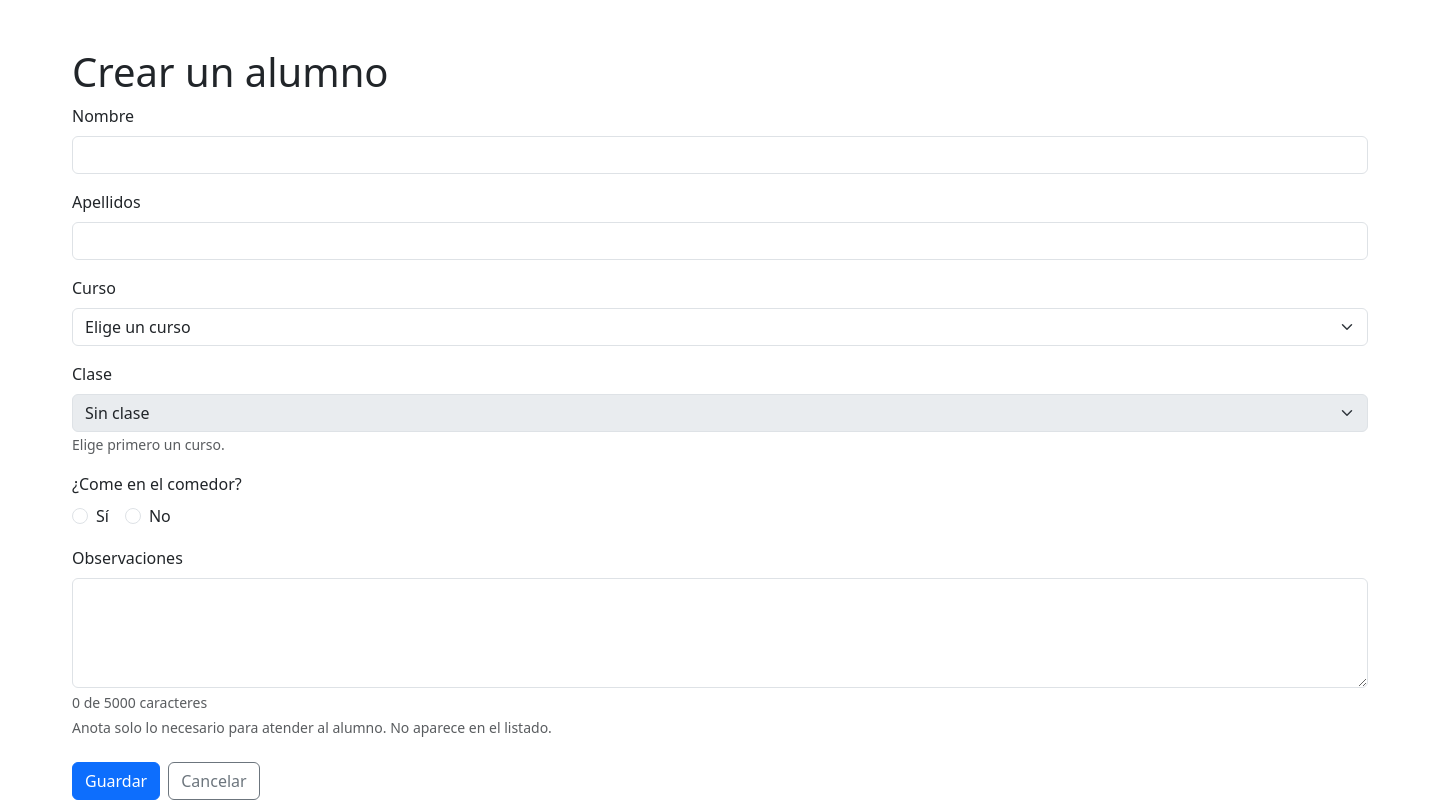
CreateStudentPage › shows the fields that the server rejects
Type "Juan" into the field labelled "Nombre" at coordinates (720, 155), box [72,136,1368,174]
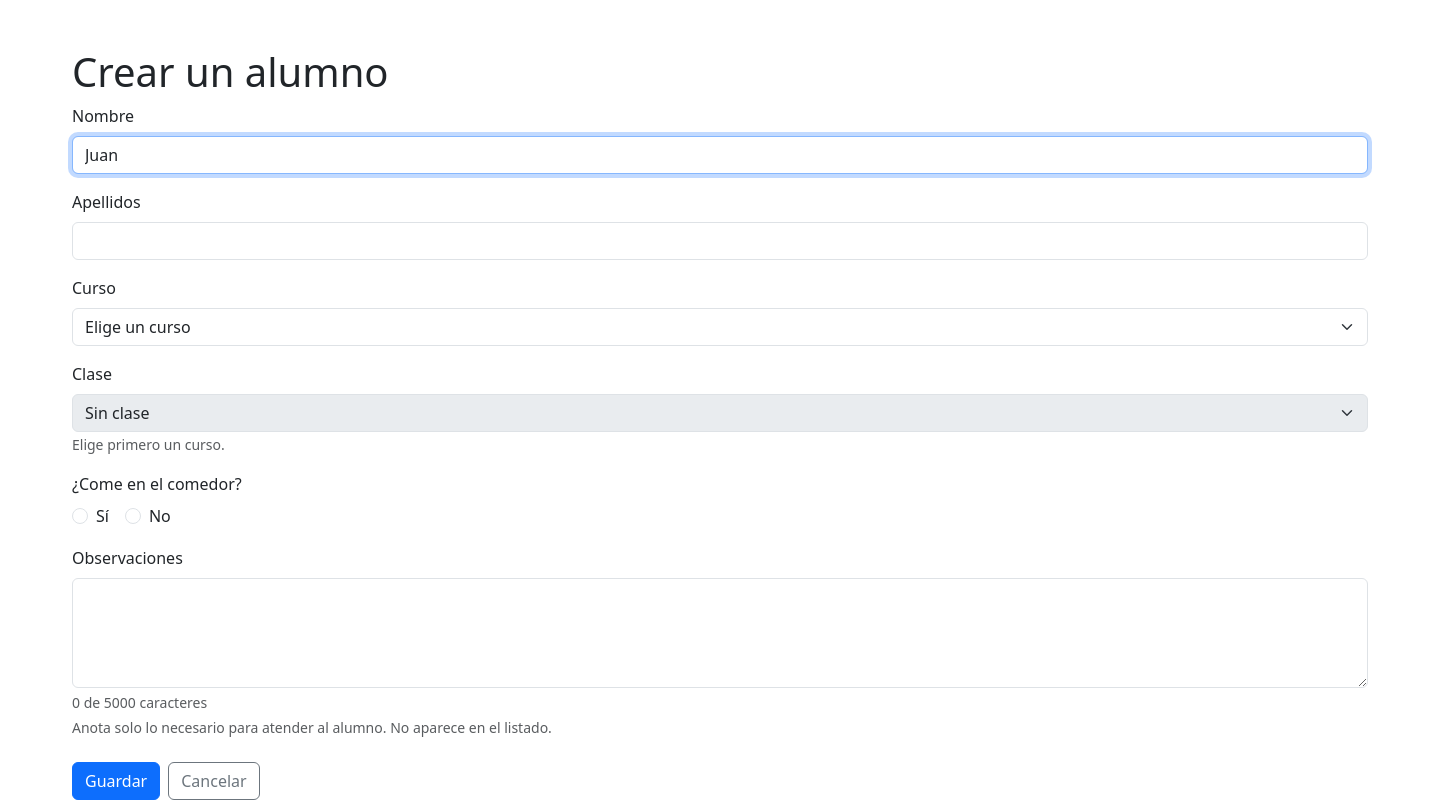
Type "García" into the field labelled "Apellidos" at coordinates (720, 241), box [72,222,1368,260]
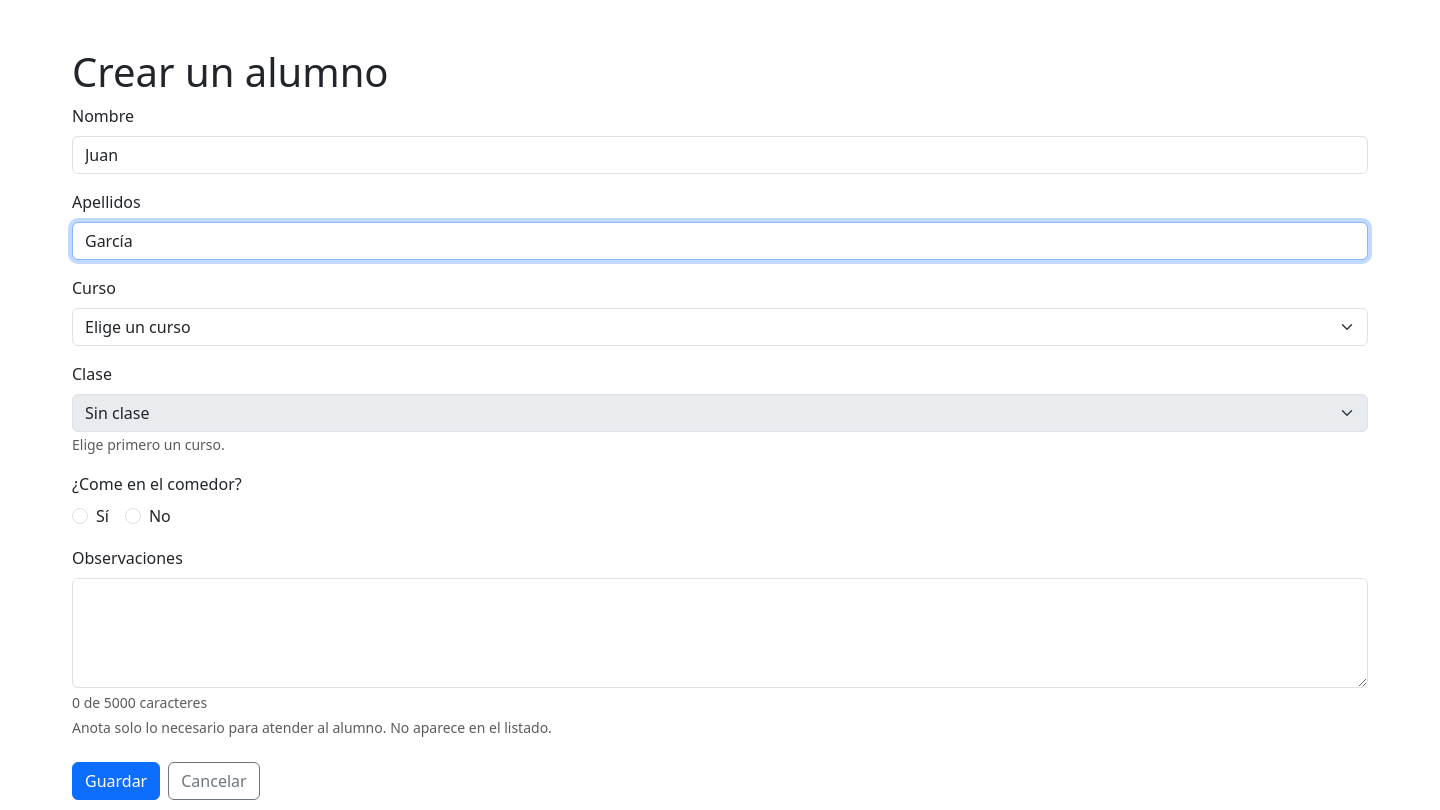
Select "1º Primaria" in the dropdown labelled "Curso" at coordinates (720, 327), box [72,308,1368,346]
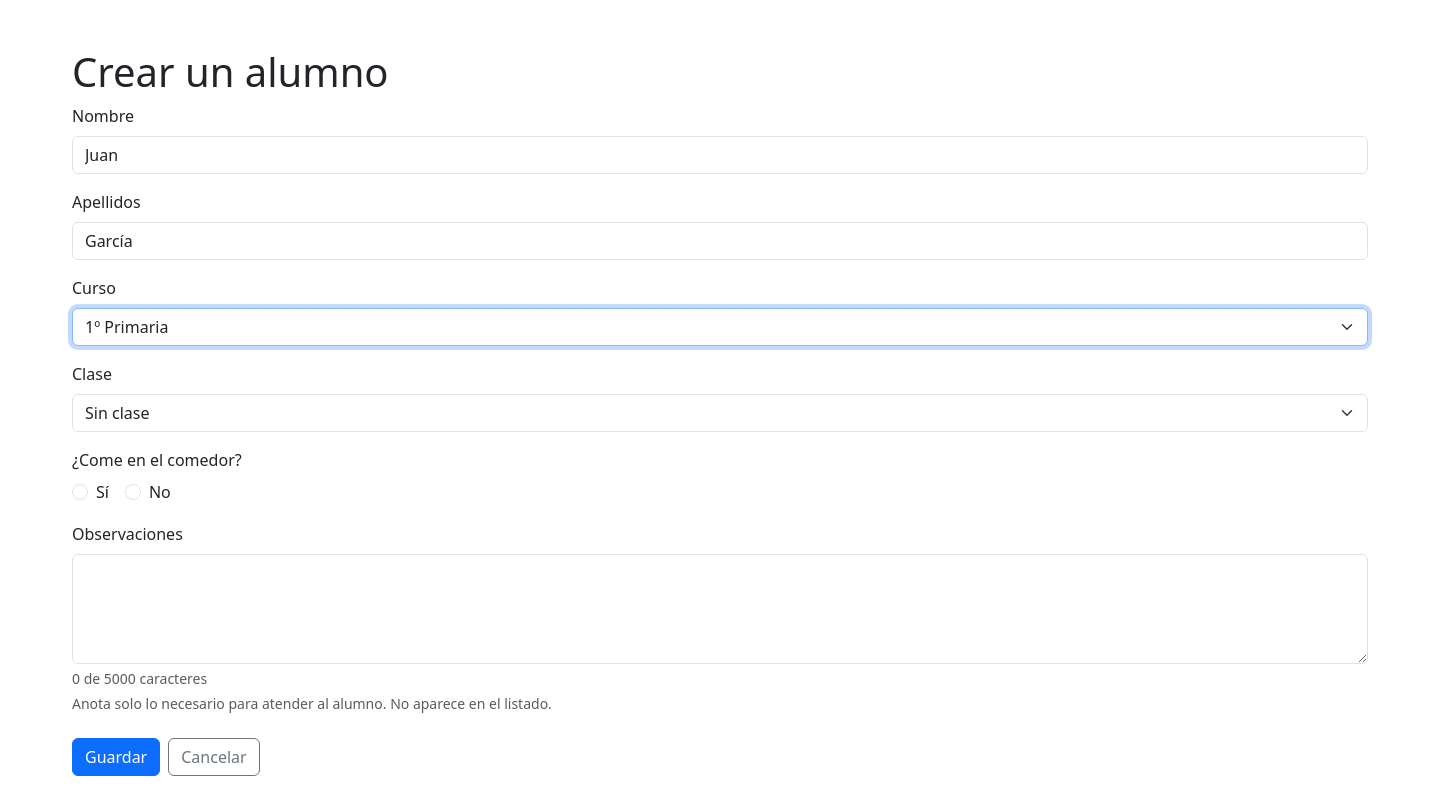
Click the radio button labelled "No" at coordinates (133, 492), box [125,484,141,500]
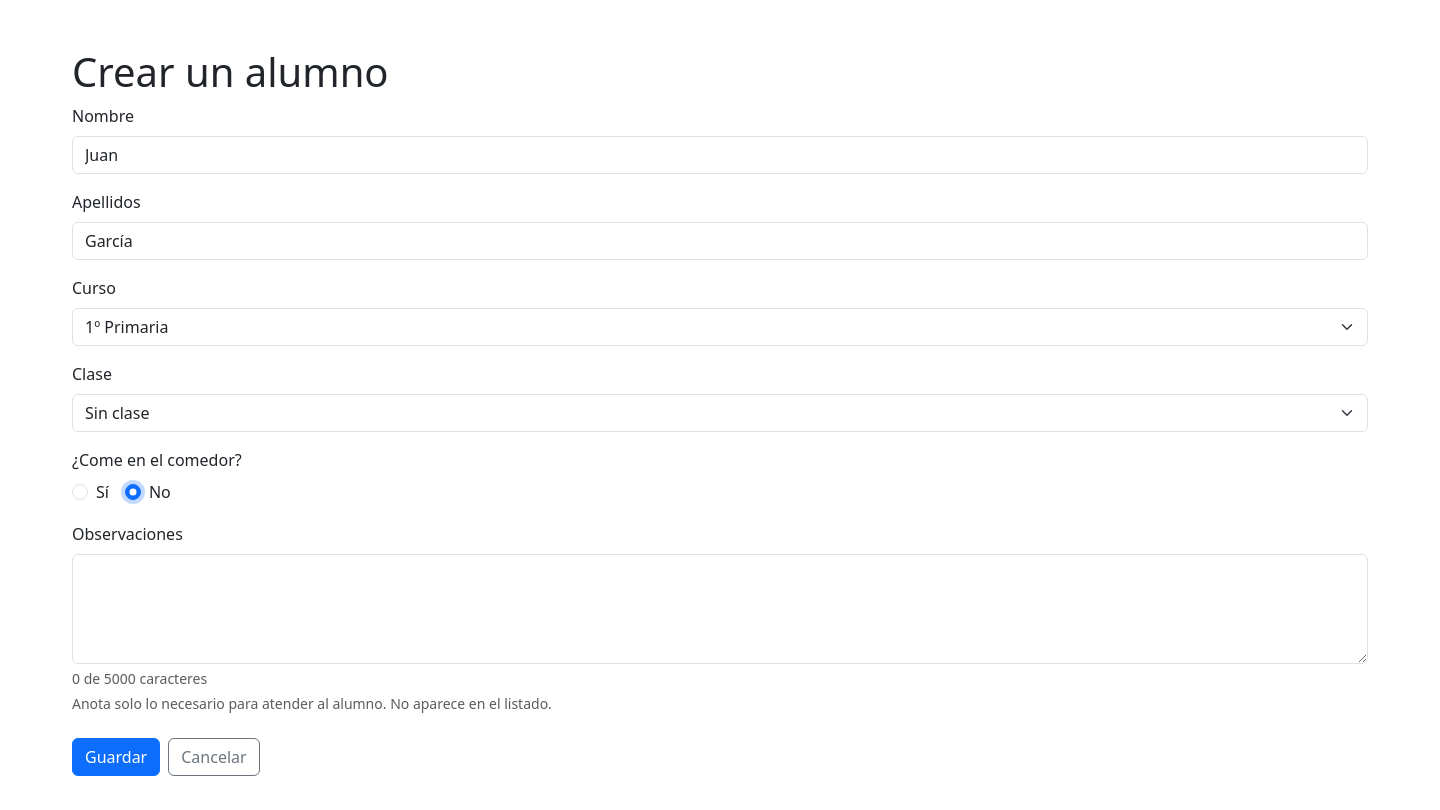
Click the button "Guardar" at coordinates (116, 757), box [72,738,160,776]
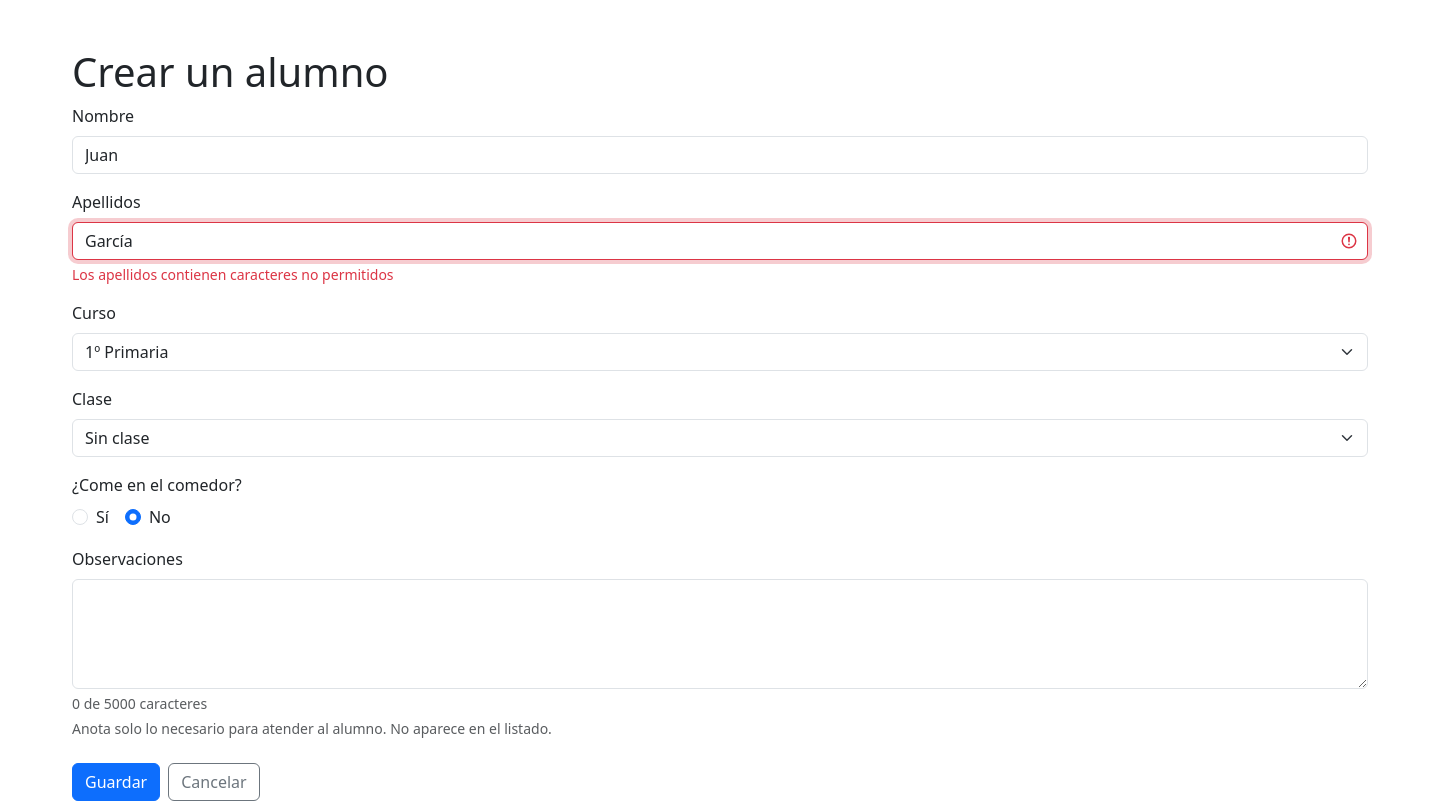
Expected: the text "Los apellidos contienen caracteres no permitidos" is shown, [72,265,394,284]
